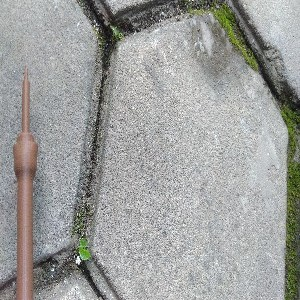solder: (12, 67, 38, 300)
